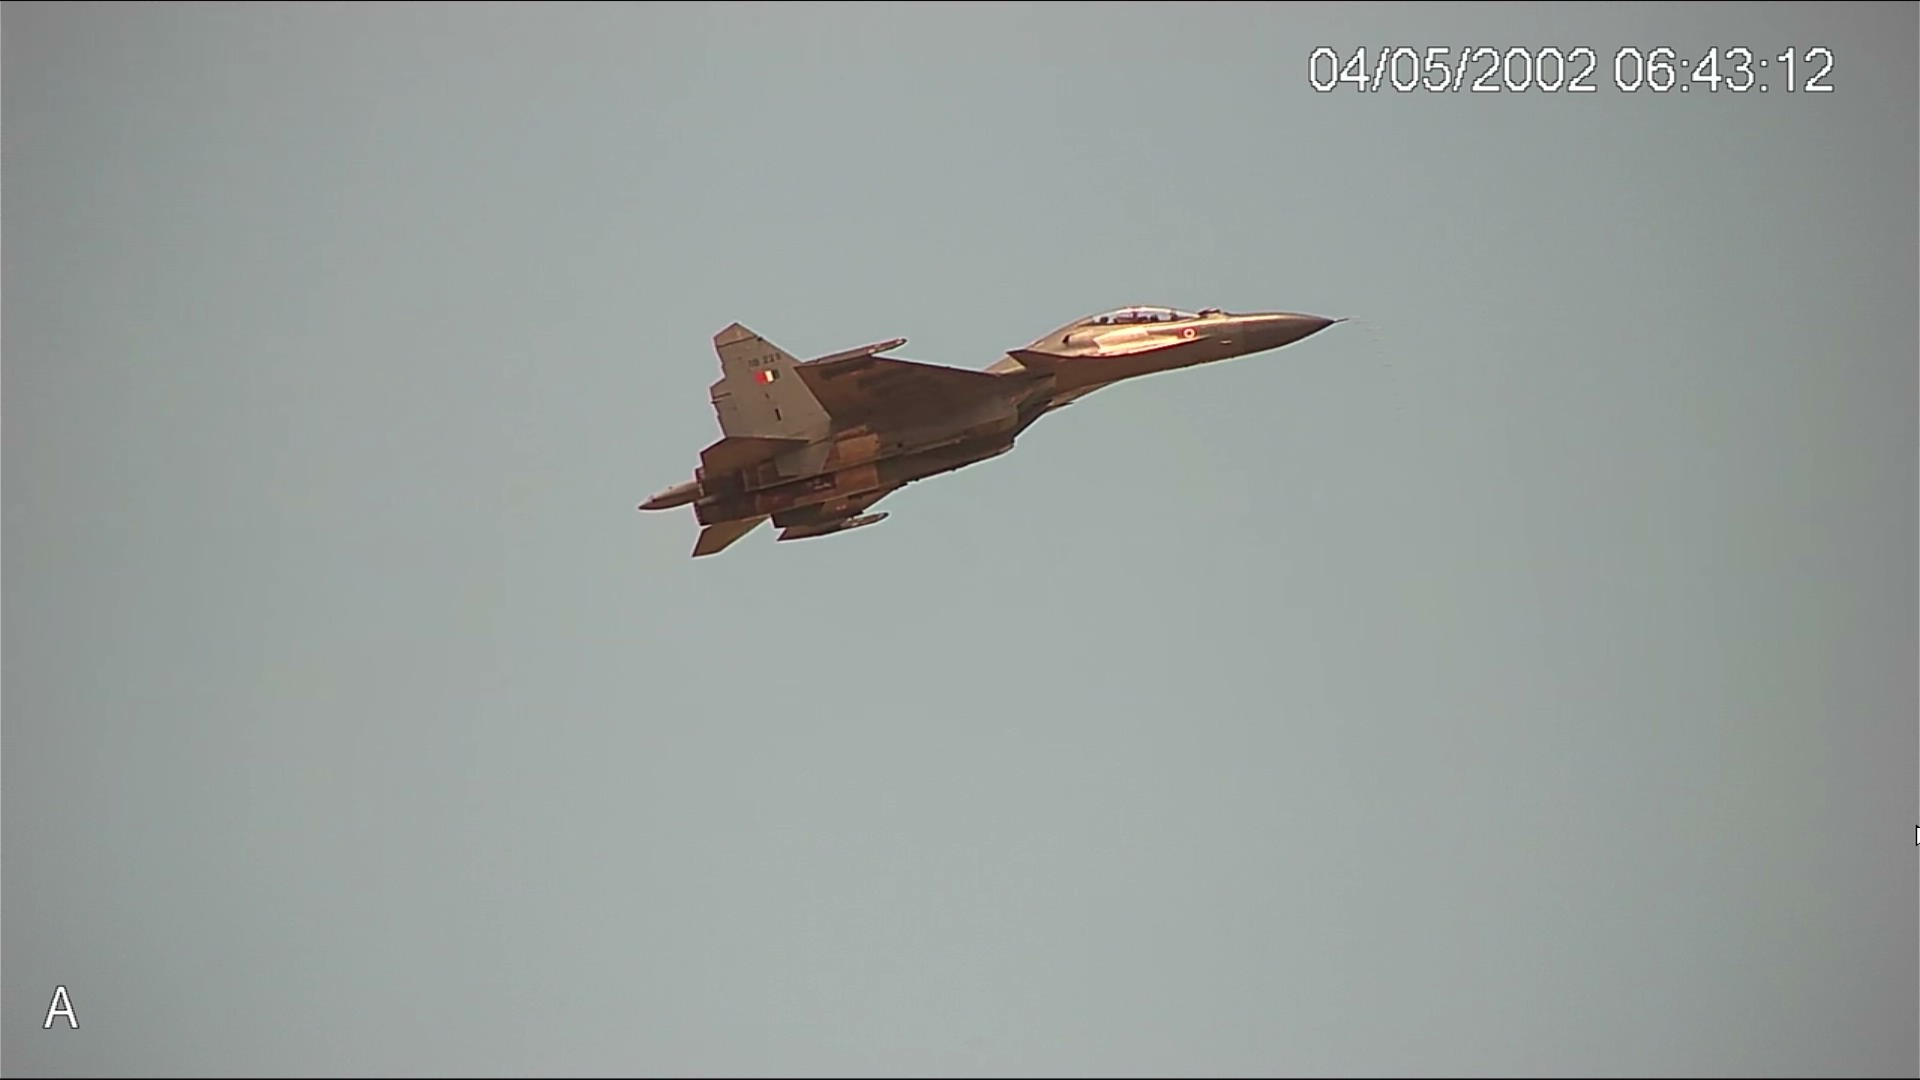SU_30: (636, 303, 1360, 559)
